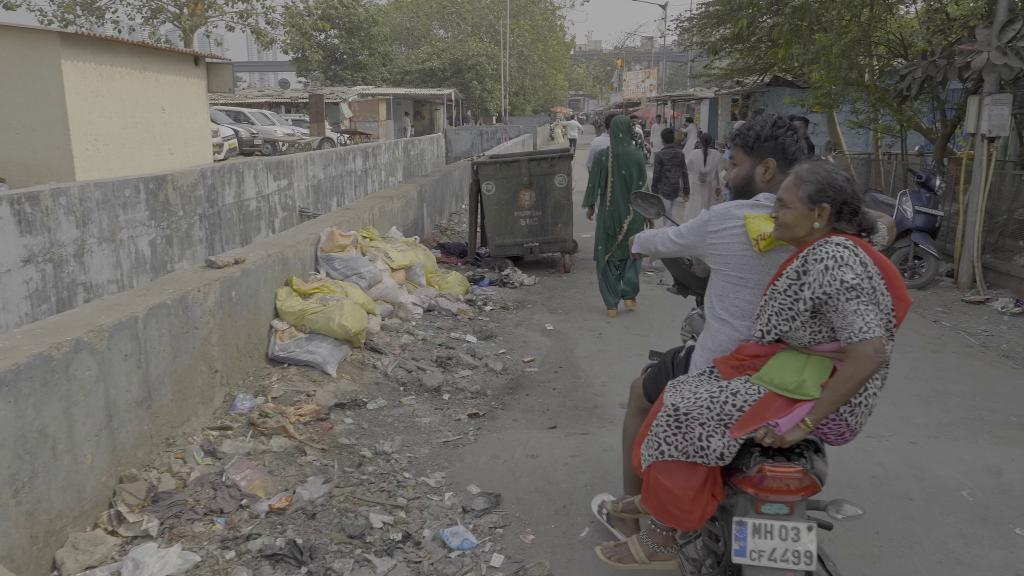dustbin: (469, 148, 581, 277), (101, 536, 214, 576), (215, 453, 290, 509), (437, 523, 480, 552), (226, 391, 260, 416)
garbage: (317, 217, 469, 314), (273, 272, 382, 349), (259, 316, 356, 371)
